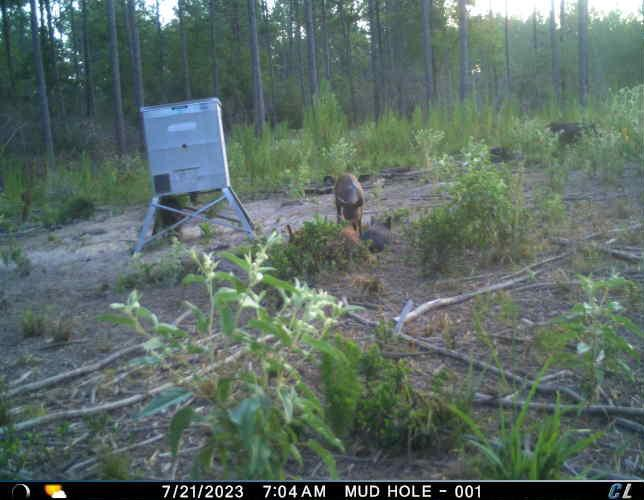Hog: (328, 171, 367, 238), (338, 218, 365, 255), (368, 215, 396, 249)
